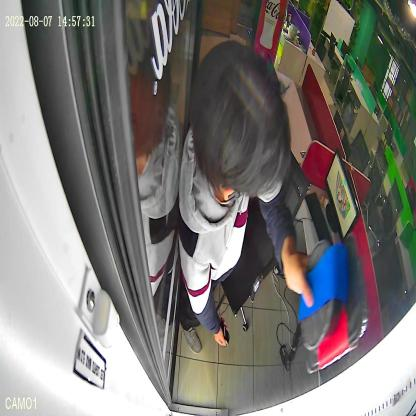blue: (298, 240, 349, 352)
red: (306, 233, 370, 375)
